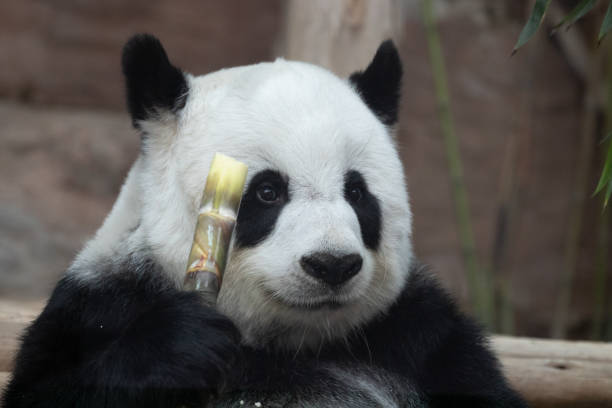panda: (101, 20, 484, 366)
